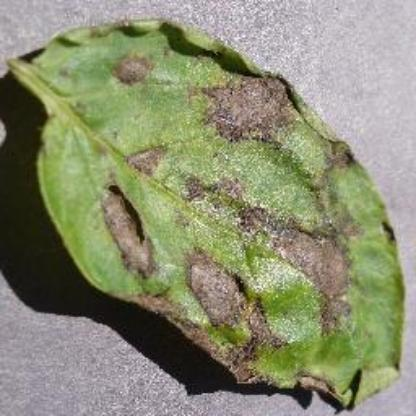Early-Blight: (3, 15, 412, 408)
